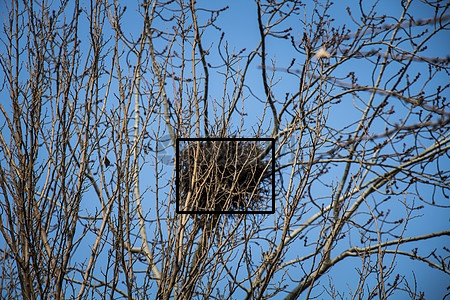bird-nest: (177, 139, 273, 212)
